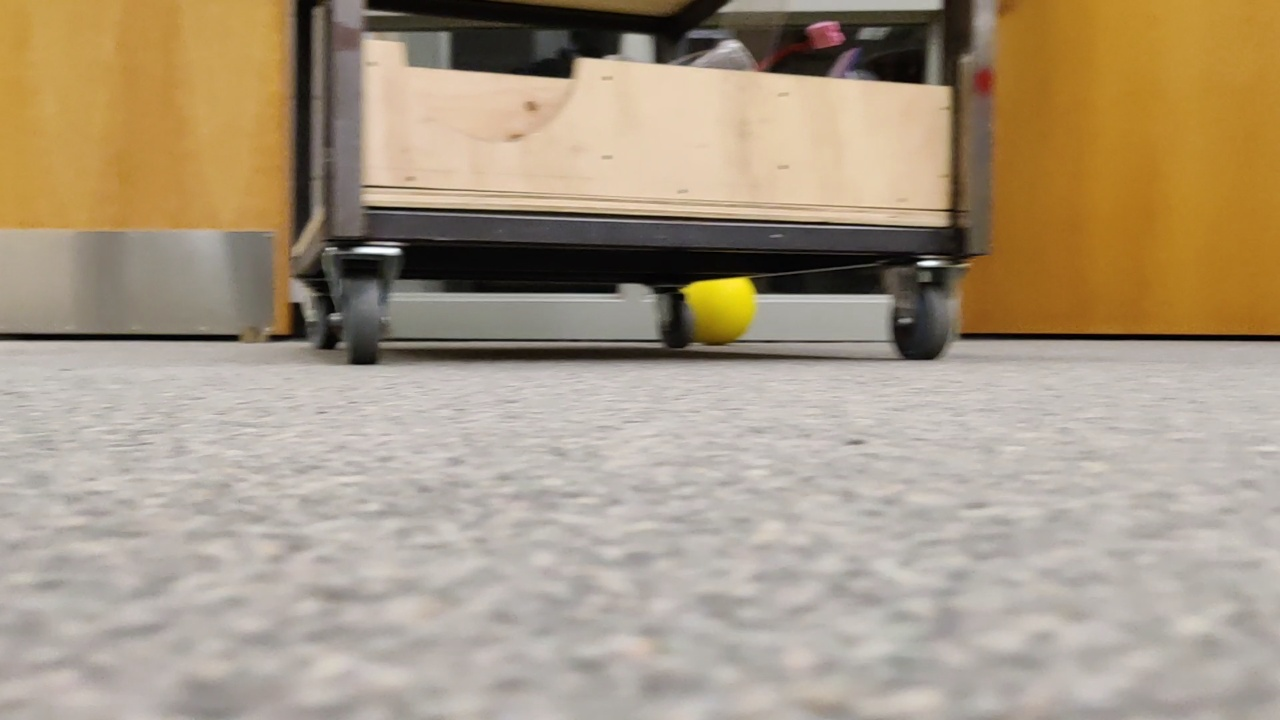Ball: (679, 278, 756, 352)
